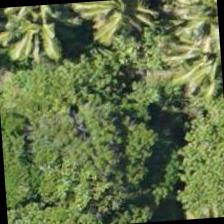Kelapa_Sawit: (168, 0, 221, 58)
